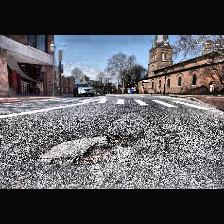pothole: (71, 144, 109, 166), (106, 134, 138, 146)
